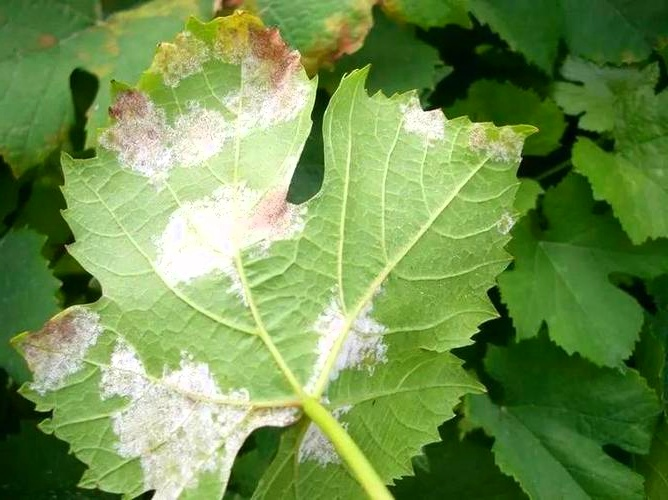Frost_Blight: (66, 296, 379, 482), (121, 16, 313, 275)
